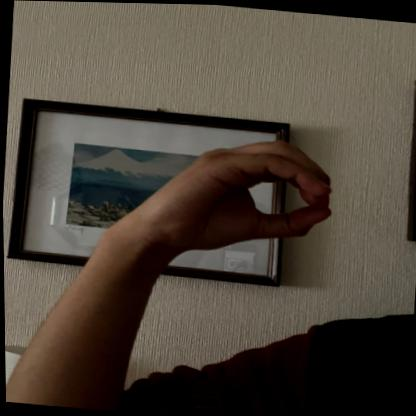O: (139, 123, 345, 268)
